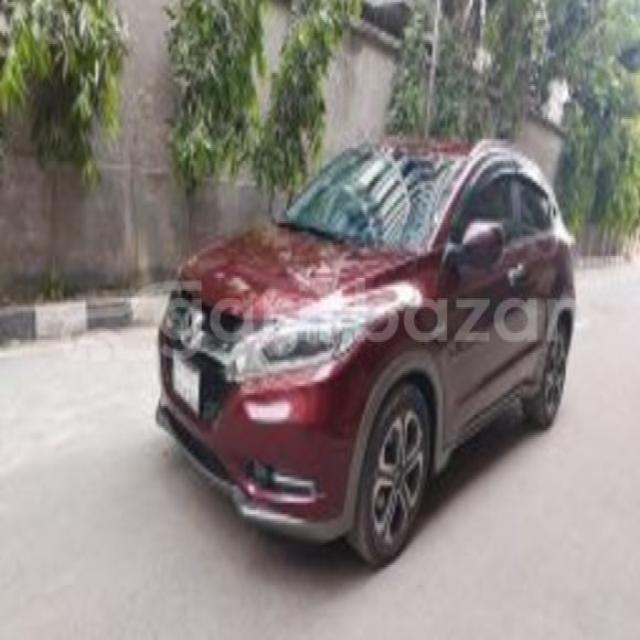maroon: (156, 132, 575, 560)
